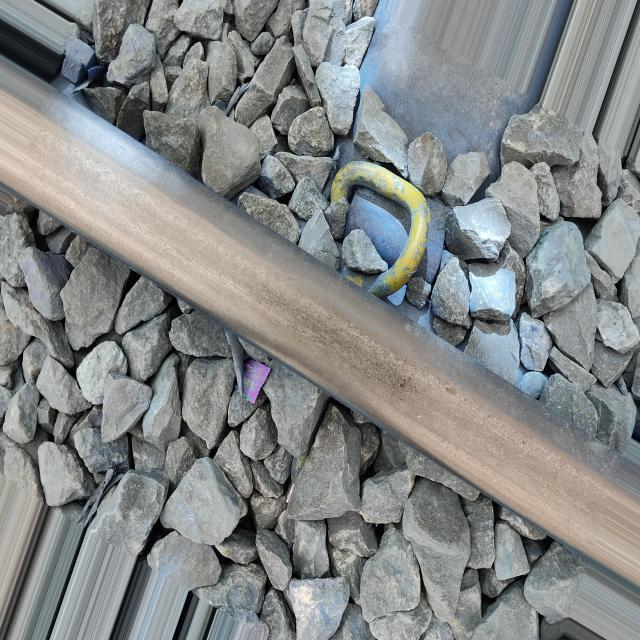Good Fasteners: (326, 156, 451, 321)
